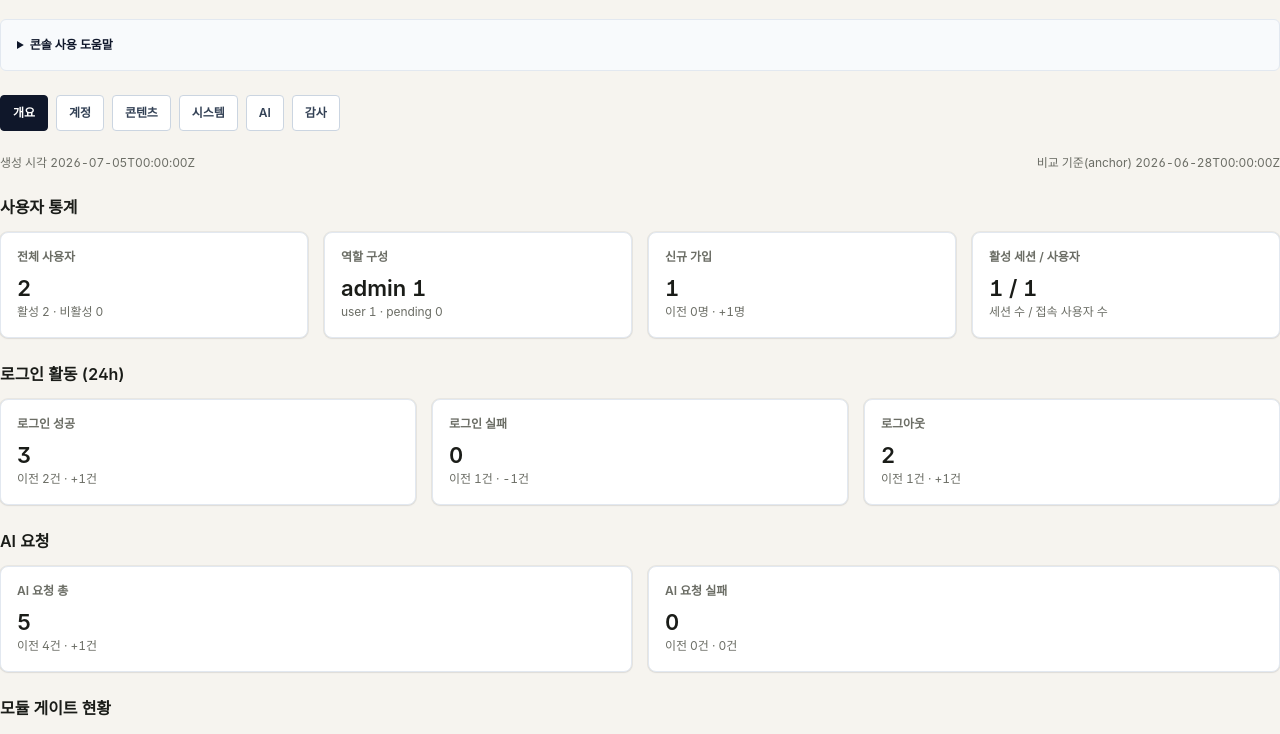
Test case: successful actions render a dismissible toast stack item
The image size is (1280, 734).
Click the tab "콘텐츠" at (141, 113), box [112,95,171,131]
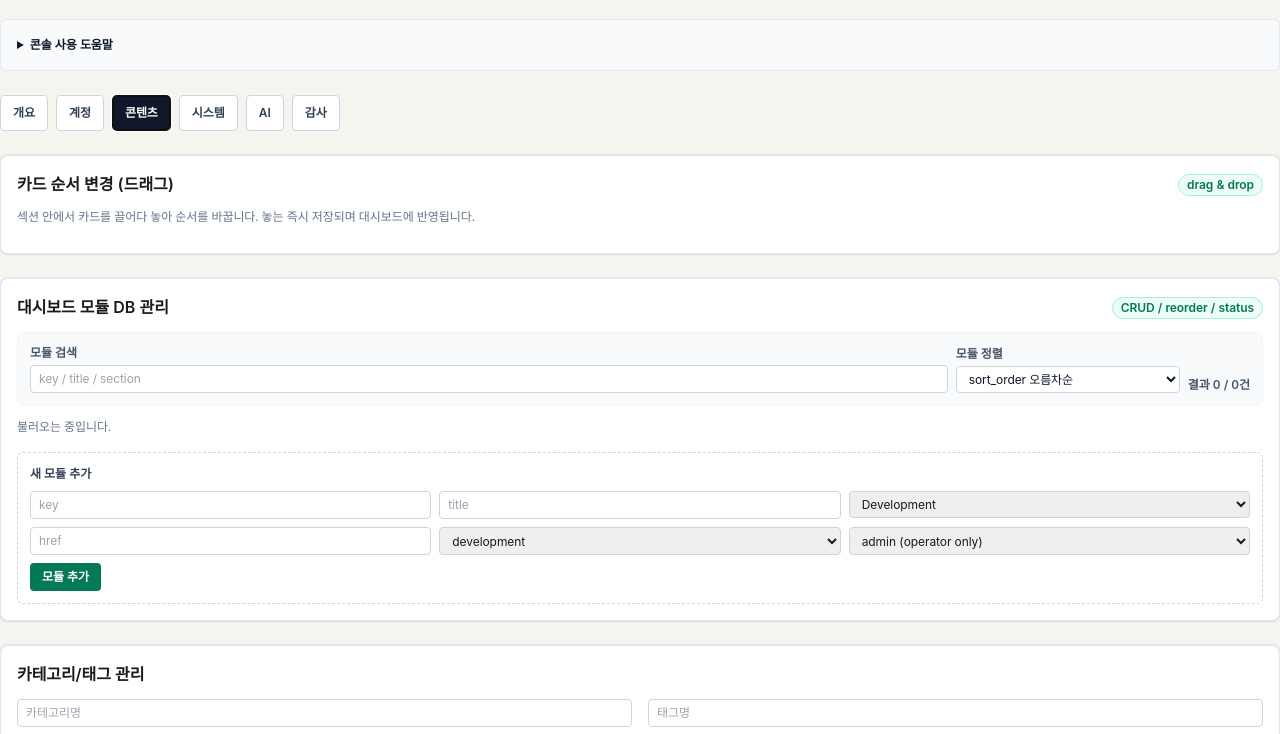
Result: the heading "대시보드 모듈 DB 관리" is shown at [17,295,169,320]
Type "toast-module" into the field named "new module key" at (231, 505), box [30,491,431,519]
(page scrolled)
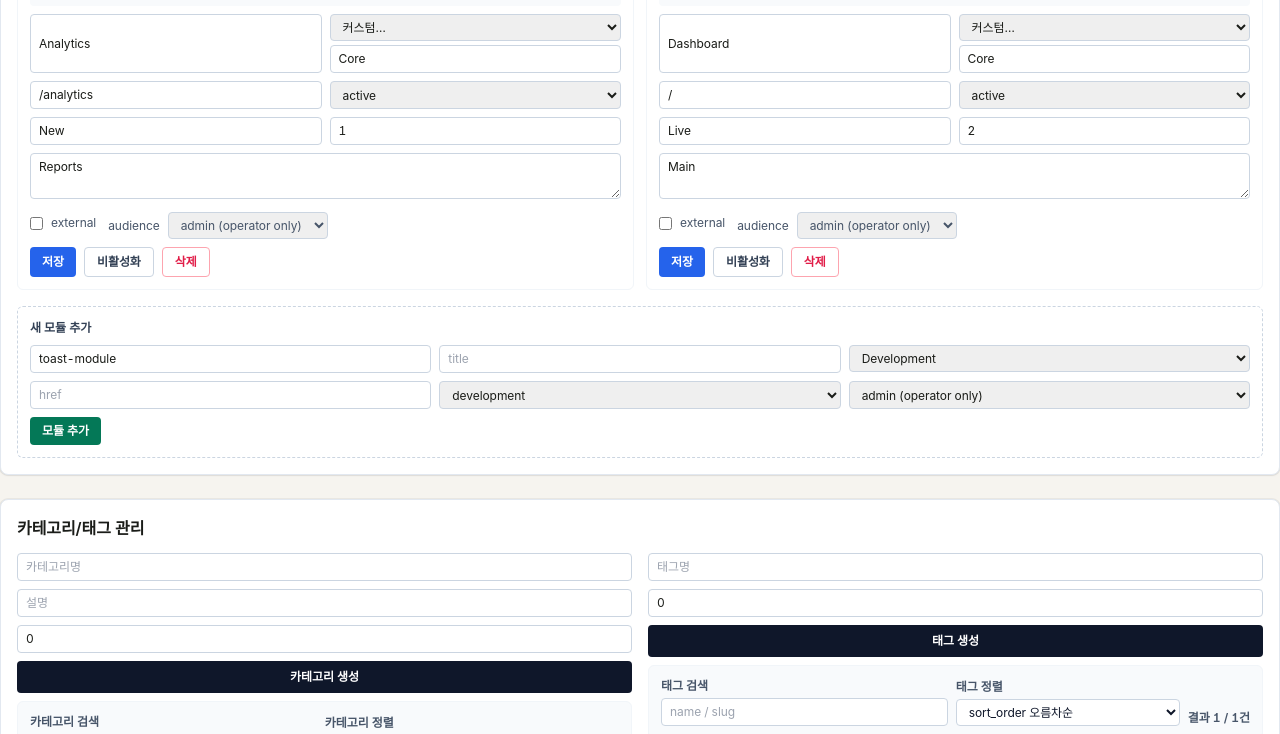
Type "Toast Module" into the field named "new module title" at (640, 359), box [439,345,841,373]
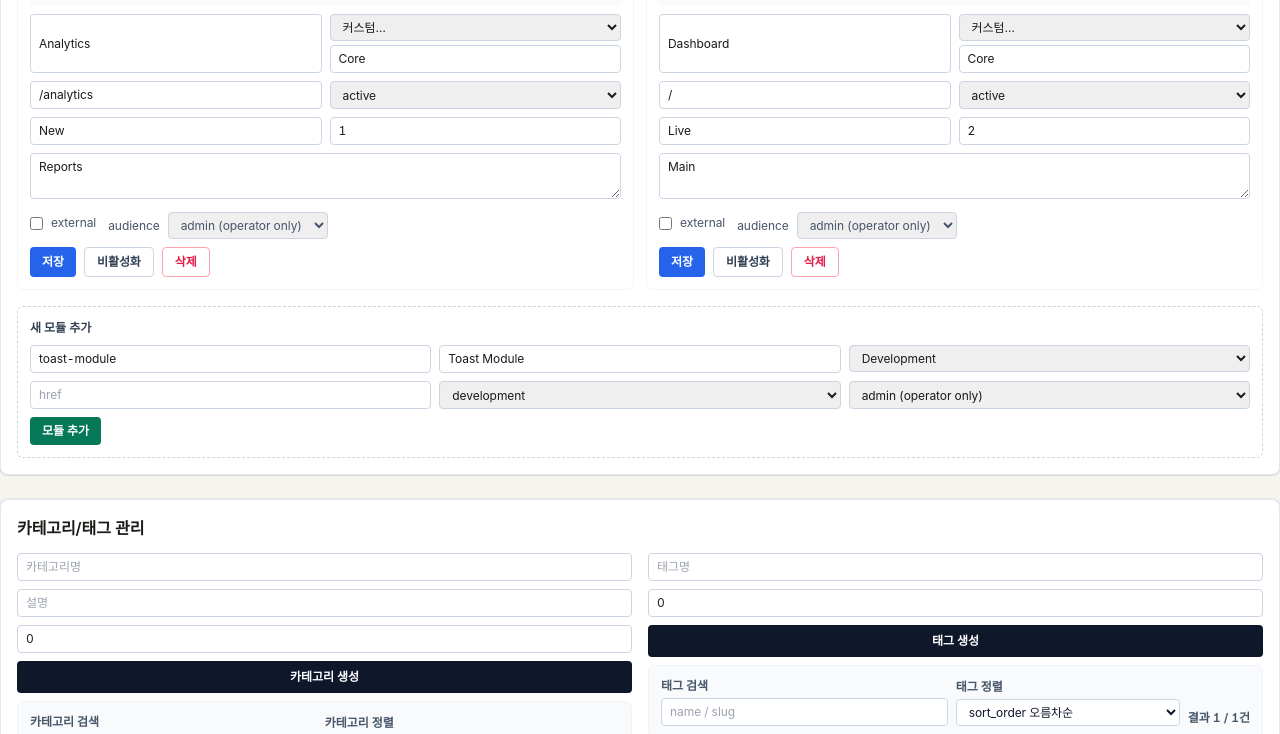
Type "/toast" into the field named "new module href" at (231, 395), box [30,381,431,409]
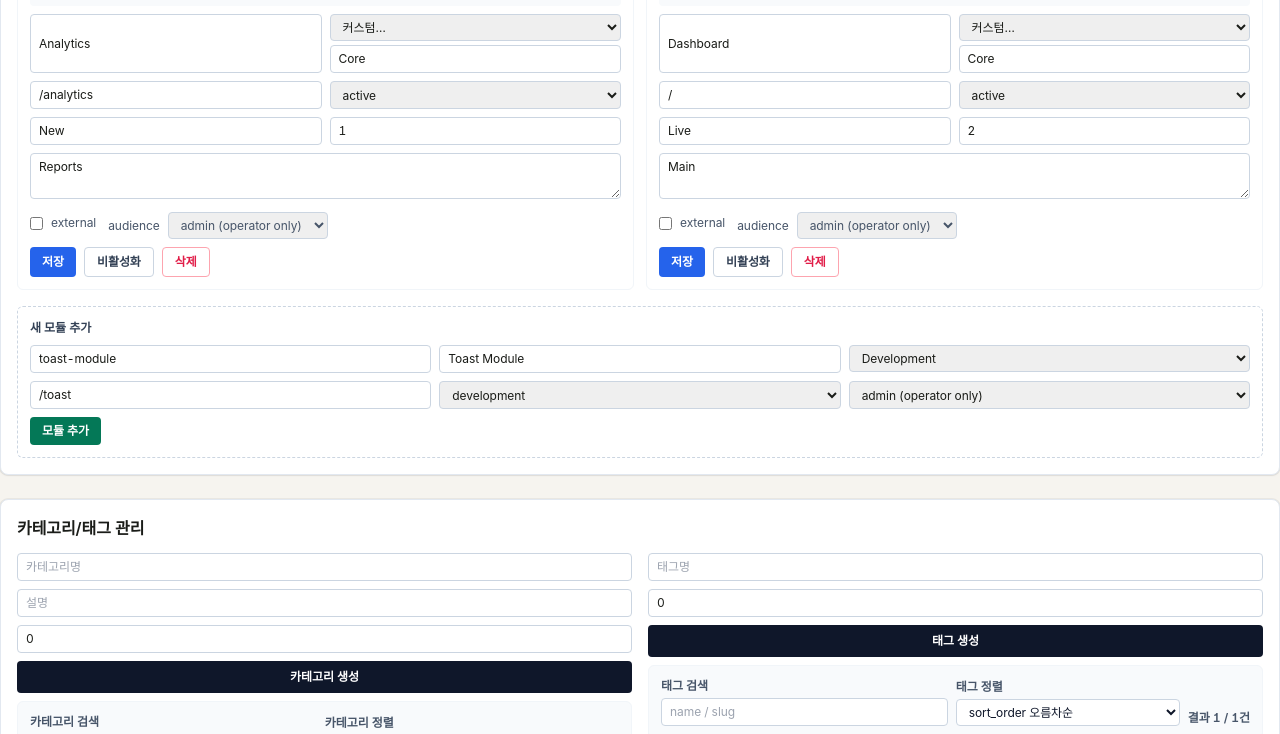
Click the button "모듈 추가" at (66, 431), box [30,417,101,445]
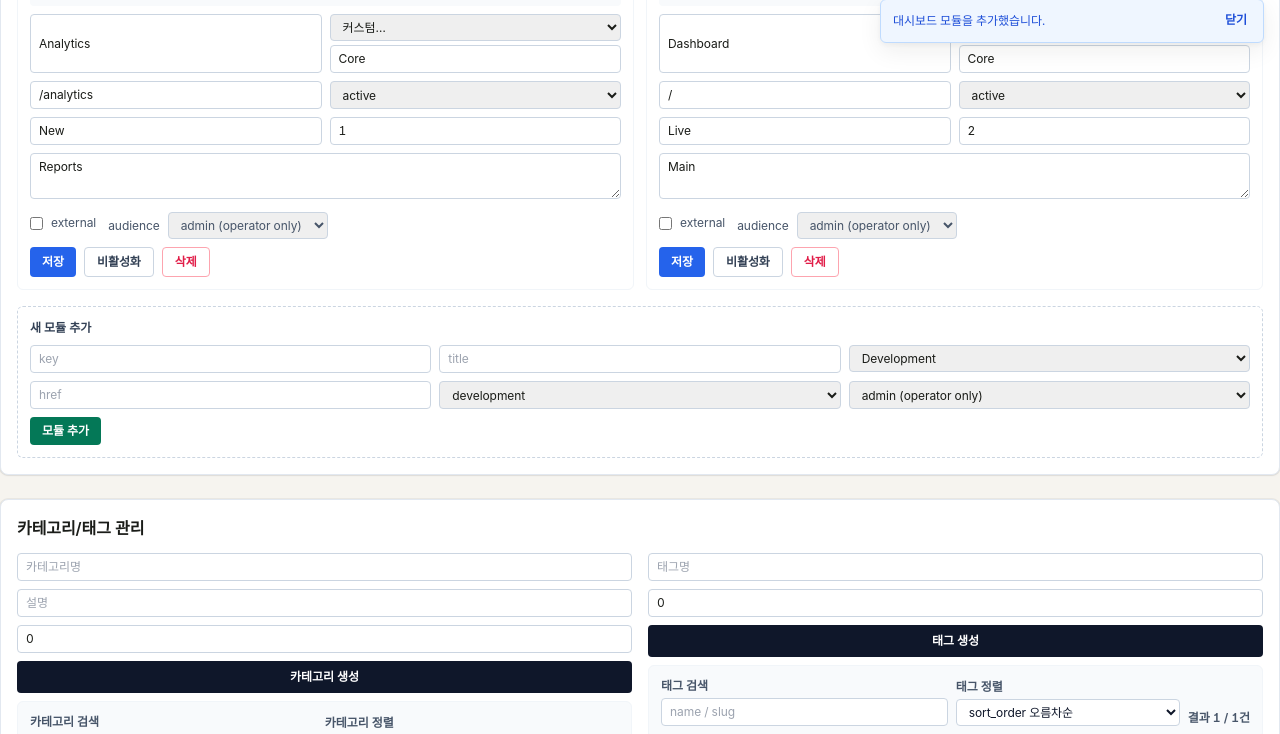
Result: the message shows "대시보드 모듈을 추가했습니다." at [893,13,1045,28]
Click the button with aria-label "알림 닫기" at (1236, 20), box [1221,12,1251,28]
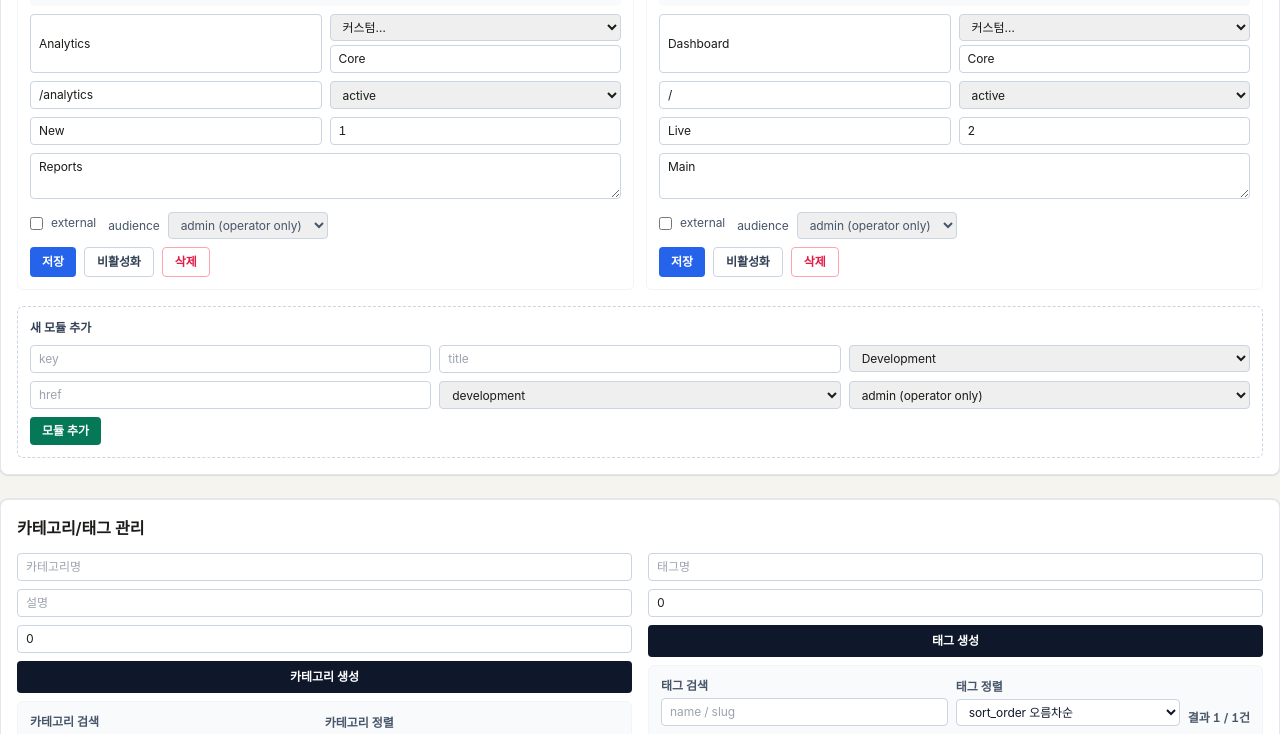
Result: the text "대시보드 모듈을 추가했습니다." is gone
